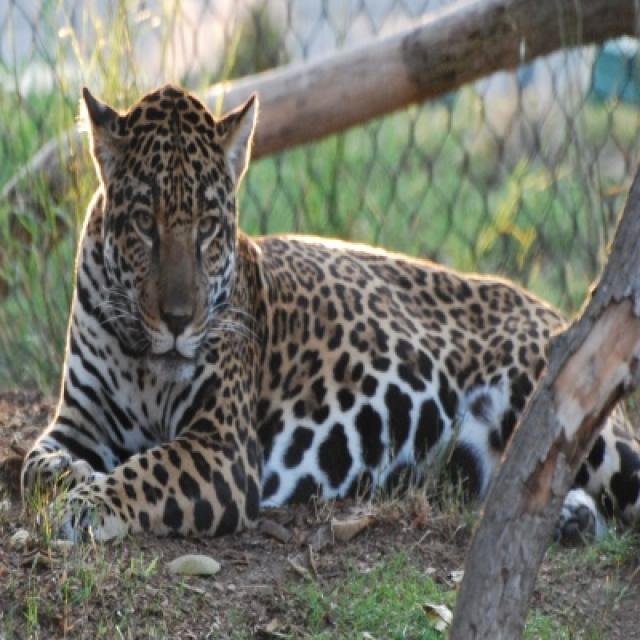Jaguar: (19, 85, 573, 547), (560, 405, 638, 546)
